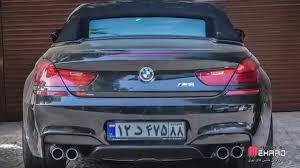car: (105, 120, 189, 143)
